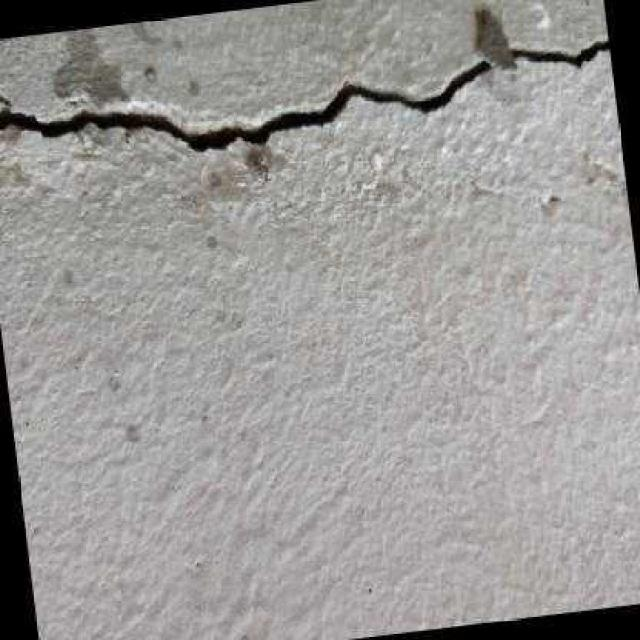D00: (0, 10, 609, 152)
